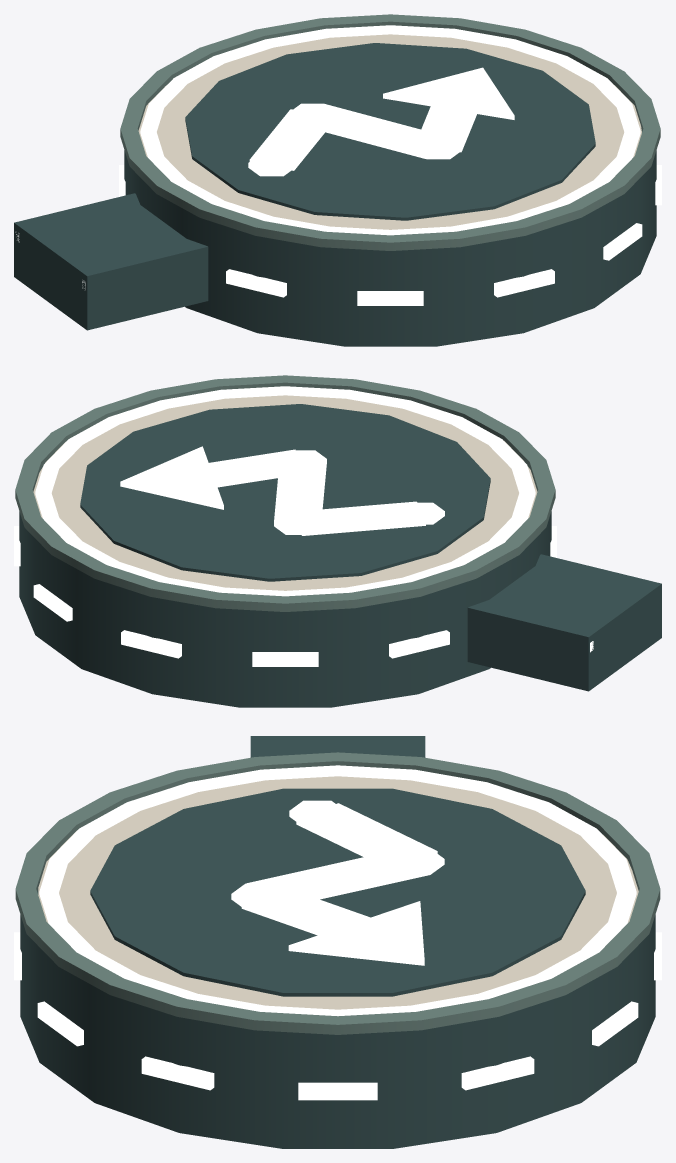
File: Relay_Button_Remote_v2_lab.glb
The picture shows the model from 3 angles, top to bottom: view 1: azimuth 30°, elevation 25°; view 2: azimuth 150°, elevation 25°; view 3: azimuth 270°, elevation 25°; orthographic projection. The views are drawn at different scales.
Parts seen in each view (by area): view 1: Relay_Button_Remote_v2, Glyph, Strut; view 2: Relay_Button_Remote_v2, Glyph, Strut; view 3: Relay_Button_Remote_v2, Glyph, Strut.
Part boxes in pixels (left/top/right/bottom): Relay_Button_Remote_v2: left=119, top=14, right=661, bottom=346; Glyph: left=185, top=43, right=595, bottom=220; Strut: left=14, top=193, right=208, bottom=330; Relay_Button_Remote_v2: left=14, top=375, right=556, bottom=707; Glyph: left=80, top=404, right=490, bottom=581; Strut: left=467, top=554, right=661, bottom=691; Relay_Button_Remote_v2: left=14, top=752, right=661, bottom=1148; Glyph: left=90, top=788, right=585, bottom=996; Strut: left=250, top=736, right=425, bottom=757.
Size of the model in its own units: 4.99 by 1.61 by 4.08.
